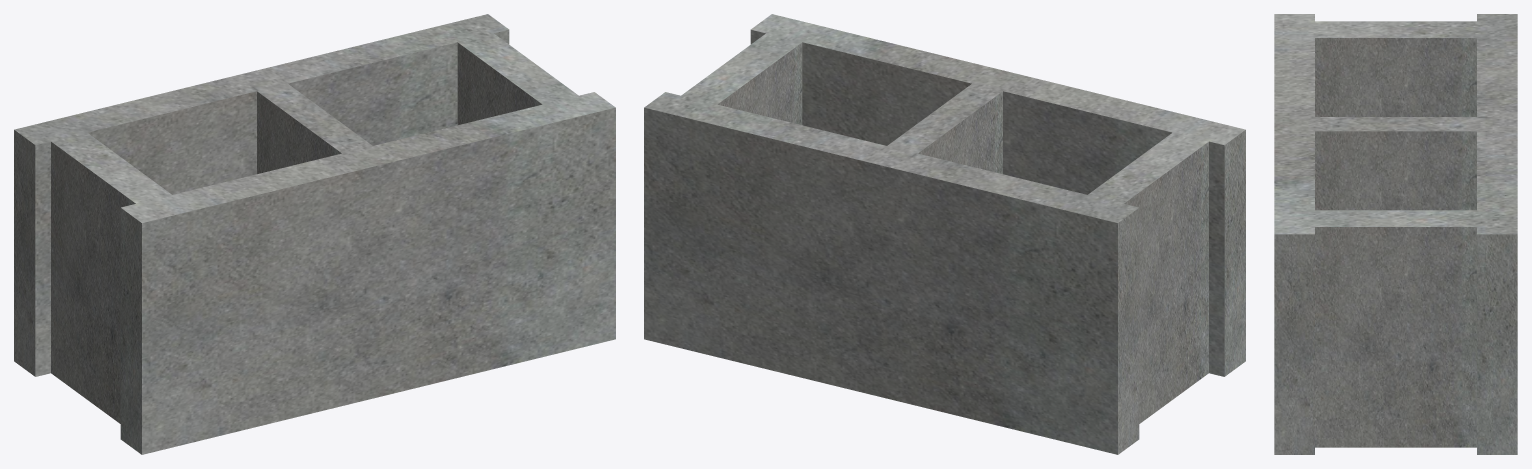
File: cinder_block.dae
3 renders of one model, left to right at view 1: azimuth 30°, elevation 25°; view 2: azimuth 150°, elevation 25°; view 3: azimuth 270°, elevation 25°, orthographic. The views are drawn at different scales.
Parts seen in each view (by area): view 1: CinderBlockm; view 2: CinderBlockm; view 3: CinderBlockm.
Part boxes in pixels (x1,y1,x2,y2): CinderBlockm: [14, 14, 615, 454]; CinderBlockm: [644, 14, 1245, 454]; CinderBlockm: [1274, 14, 1517, 454].
Bounding box in the file's own units: 17.12 × 8 × 8.
Materials: 1 (1 with a texture image).
